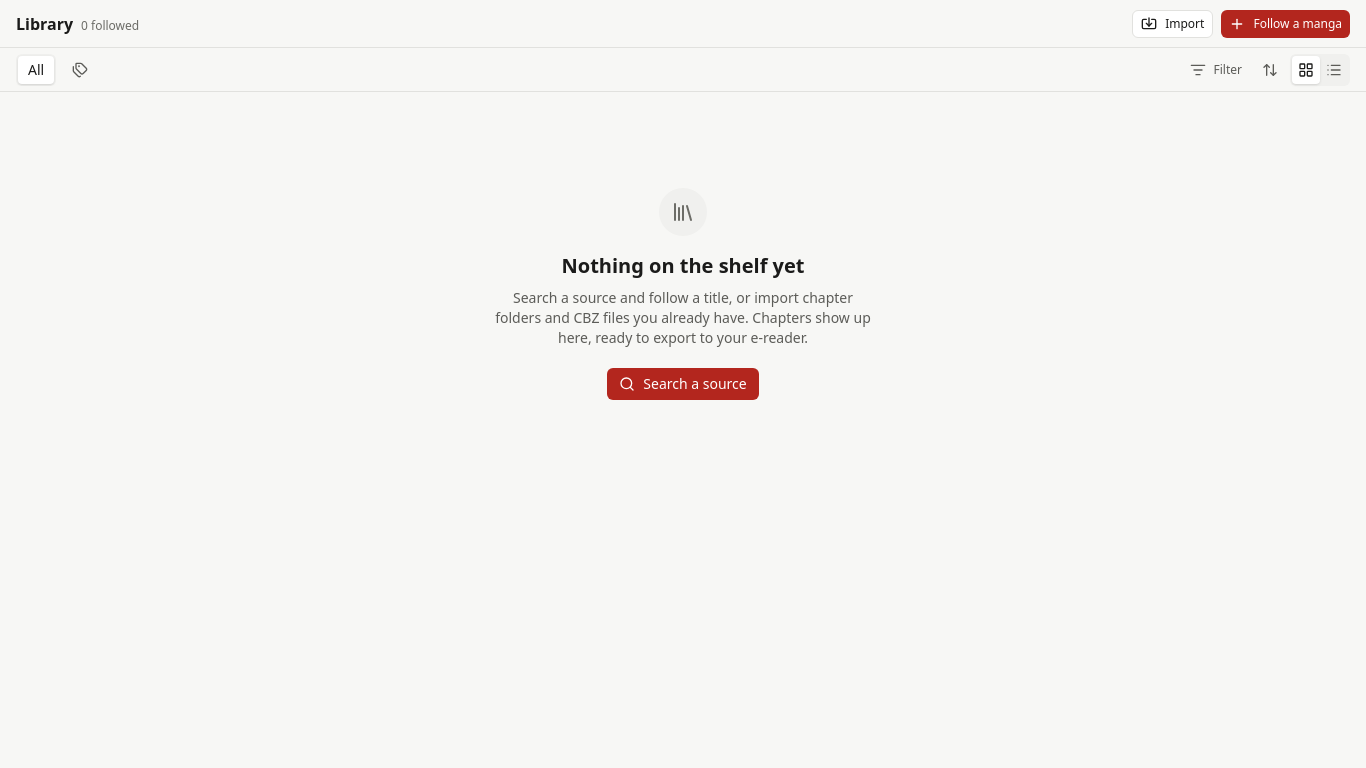
Test: empty library › still lets you set up categories before following anything
This screenshot has width=1366, height=768.
Expected: the text "Nothing on the shelf yet" is shown, x1=562 y1=252 x2=804 y2=279
Click the button named "Edit categories" at point(80, 70), box x1=64 y1=54 x2=96 y2=86
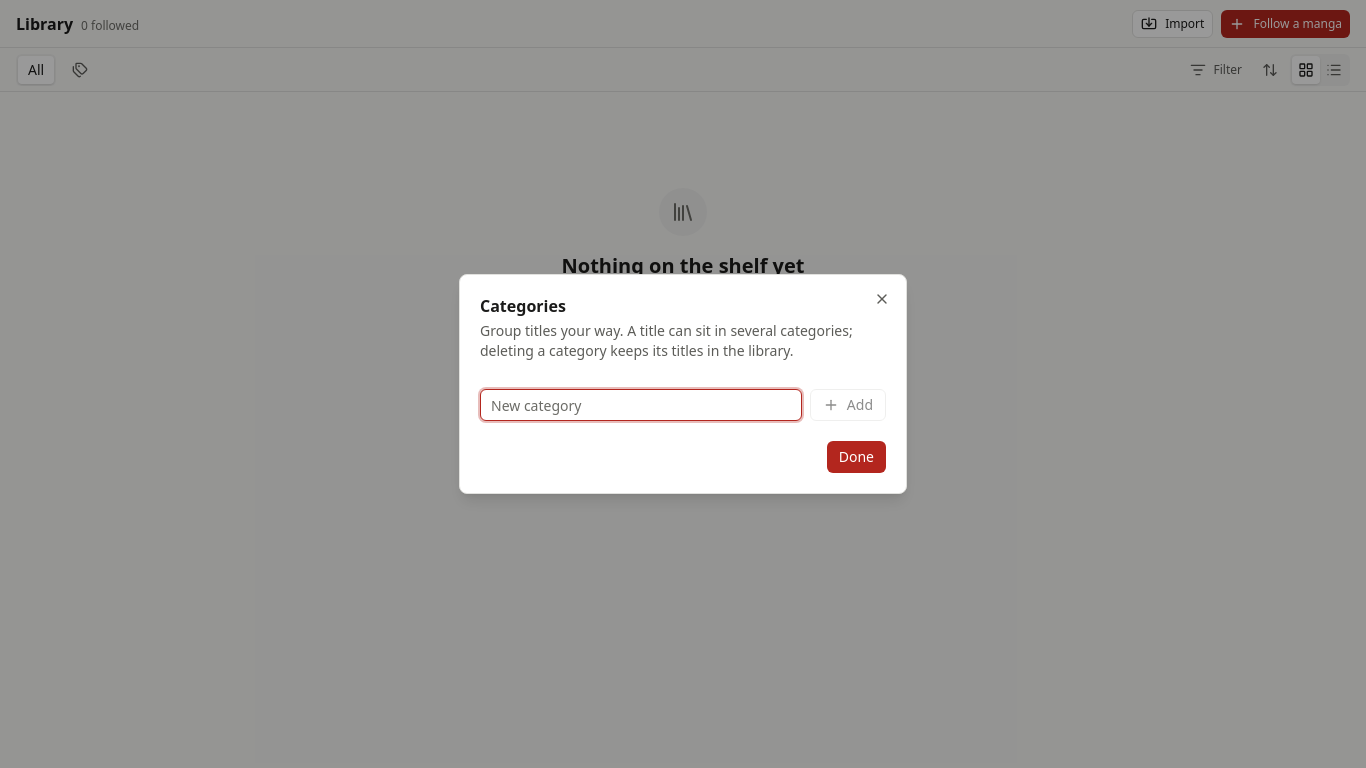
Expected: the dialog is shown, x1=459 y1=274 x2=907 y2=494
